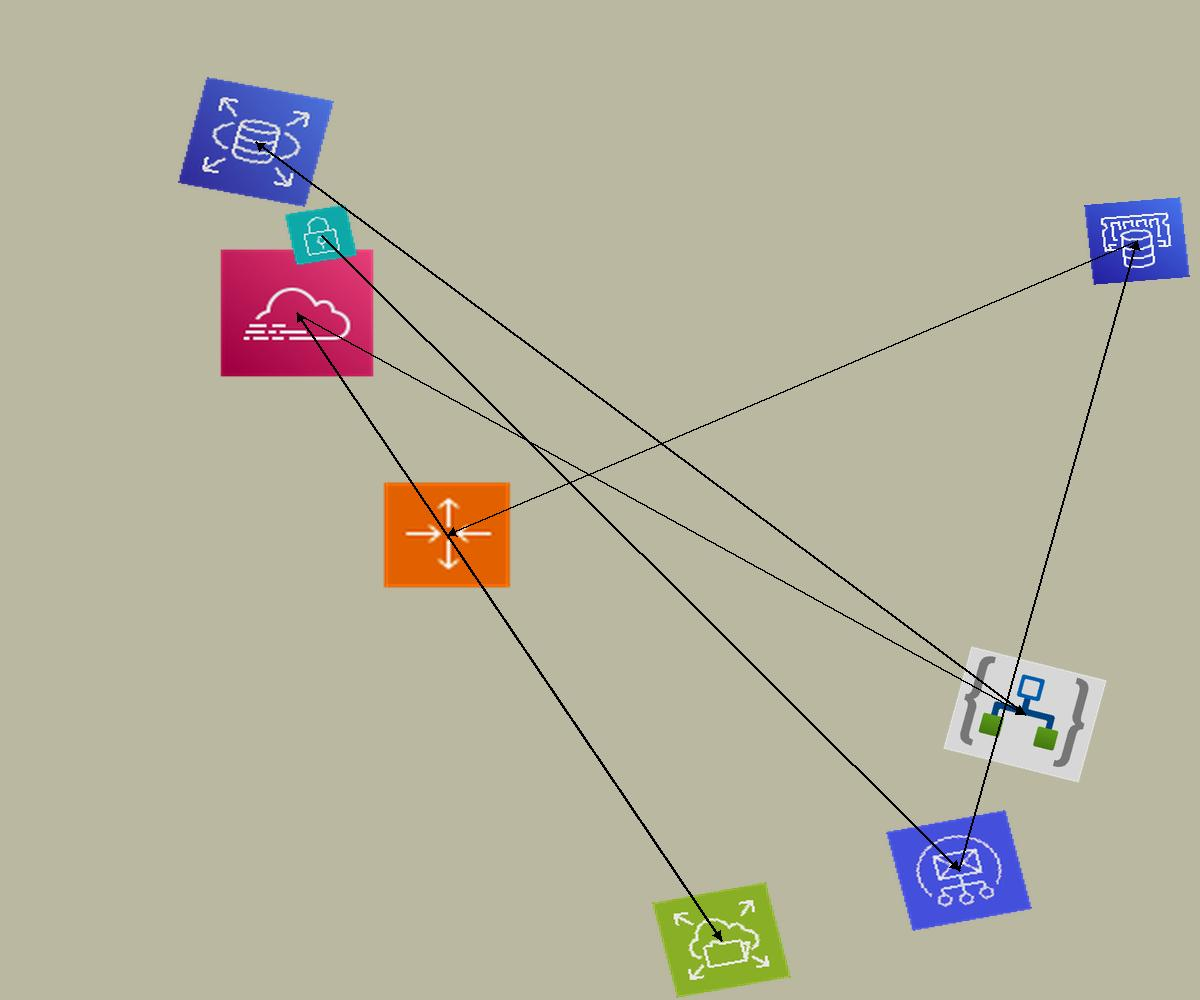AWS-CloudTrail: (219, 248, 375, 378)
AWS-EFS: (652, 882, 791, 998)
AWS-ElastiCache: (1084, 197, 1190, 285)
AWS-Private-subnet: (284, 204, 358, 266)
AWS-RDS: (178, 77, 334, 207)
AWS-Scaling-group: (381, 480, 513, 590)
AWS-Simple-Email-Service: (886, 810, 1032, 931)
Azure_integration-204-Logic-Apps: (943, 646, 1107, 783)
